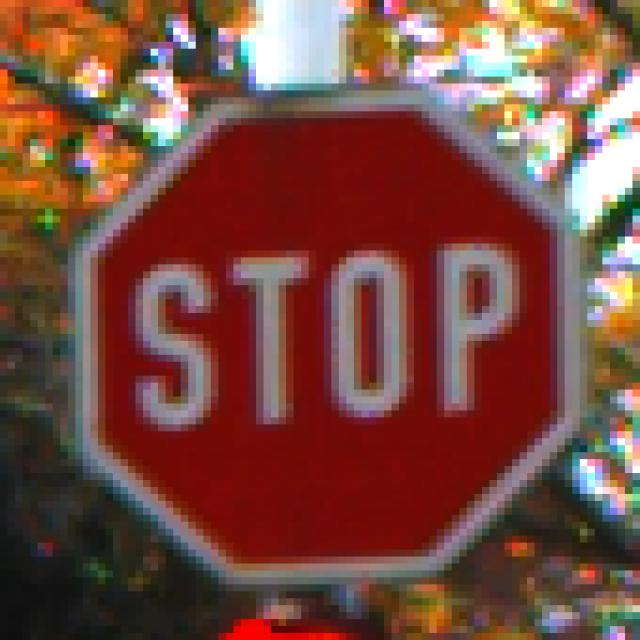STOP: (54, 64, 581, 585)
